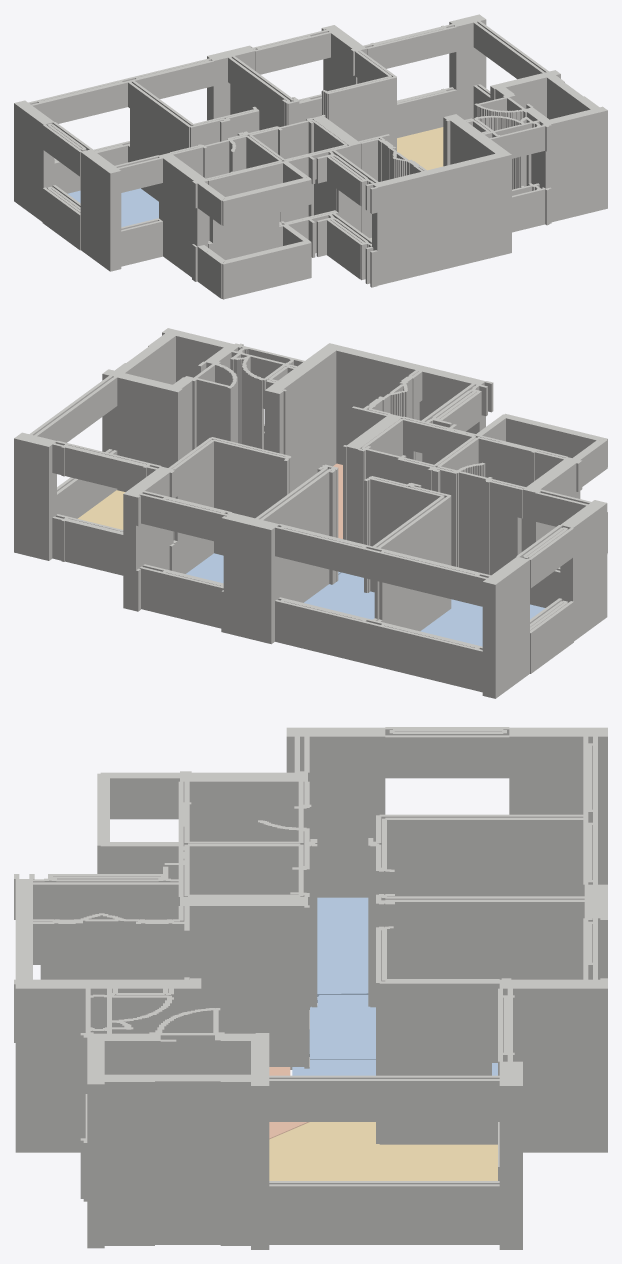
The picture shows the model from 3 angles, top to bottom: view 1: azimuth 30°, elevation 25°; view 2: azimuth 150°, elevation 25°; view 3: azimuth 270°, elevation 25°; orthographic projection. The views are drawn at different scales.
Parts seen in each view (by area): view 1: walls, room:living:2, room:bedroom:11; view 2: walls, room:bedroom:10, room:bedroom:11, room:living:2, room:bedroom:3; view 3: walls, room:living:2, room:bedroom:11, room:bedroom:10, room:bedroom:3.
Boxes of the visible parts, left/top/right/bottom form: walls: left=14, top=14, right=607, bottom=299; room:living:2: left=397, top=127, right=443, bottom=170; room:bedroom:11: left=68, top=188, right=158, bottom=227; walls: left=14, top=328, right=607, bottom=698; room:bedroom:10: left=304, top=572, right=374, bottom=619; room:bedroom:11: left=420, top=599, right=545, bottom=646; room:living:2: left=78, top=490, right=125, bottom=529; room:bedroom:3: left=186, top=553, right=341, bottom=583; walls: left=14, top=727, right=607, bottom=1249; room:living:2: left=269, top=1122, right=497, bottom=1180; room:bedroom:11: left=317, top=897, right=368, bottom=996; room:bedroom:10: left=309, top=995, right=375, bottom=1059; room:bedroom:3: left=292, top=1059, right=497, bottom=1075.
Bounding box in the file's own units: 13.15 × 2.8 × 9.2.
